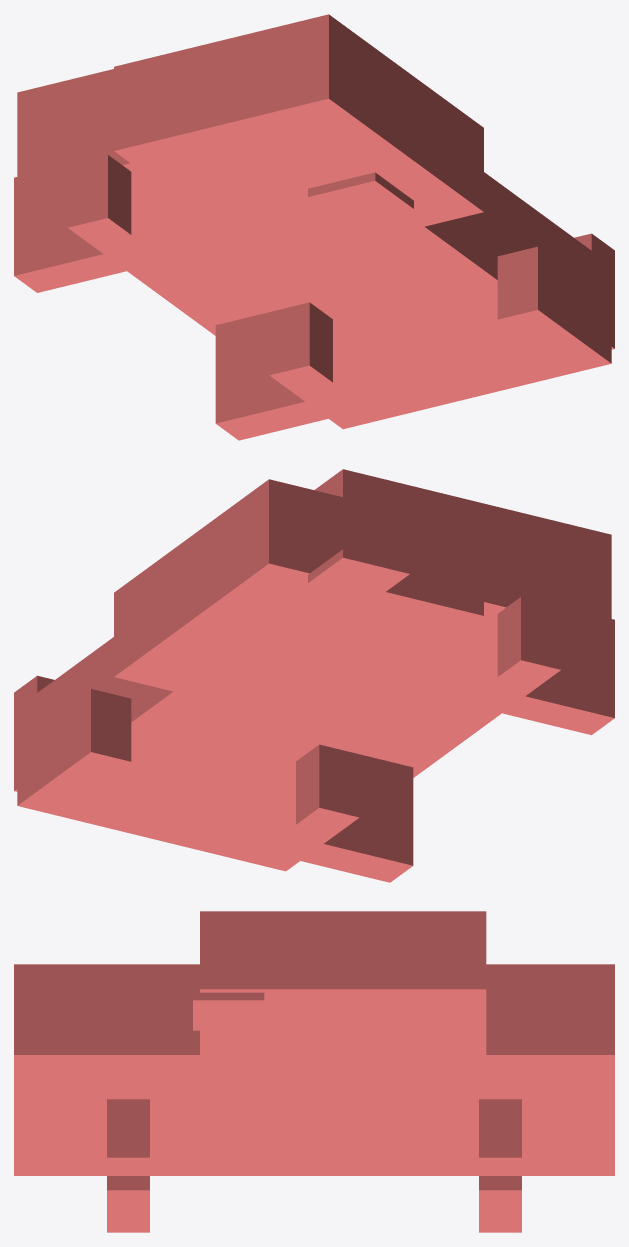
The model's file is car_placeholder.glb.
The picture shows the model from 3 angles, top to bottom: view 1: azimuth 30°, elevation 25°; view 2: azimuth 150°, elevation 25°; view 3: azimuth 270°, elevation 25°; orthographic projection. The views are drawn at different scales.
Visible parts, largest first — view 1: Body, Glass, Wheel_FL, Wheel_RL, Wheel_FR, SteeringWheel; view 2: Body, Glass, Wheel_RL, Wheel_FL, Wheel_RR, SteeringWheel; view 3: Body, Glass, Wheel_FR, Wheel_RR, SteeringWheel.
Part boxes in pixels (x1,y1,x2,y2): Body: (17, 69, 611, 429); Glass: (114, 14, 483, 264); Wheel_FL: (215, 302, 332, 440); Wheel_RL: (14, 155, 131, 292); Wheel_FR: (497, 233, 614, 349); SteeringWheel: (308, 172, 413, 225); Body: (17, 469, 611, 871); Glass: (114, 479, 483, 729); Wheel_RL: (296, 744, 413, 882); Wheel_FL: (497, 597, 614, 735); Wheel_RR: (14, 675, 131, 791); SteeringWheel: (308, 549, 409, 599); Body: (14, 964, 614, 1175); Glass: (200, 911, 486, 1085); Wheel_FR: (107, 1099, 149, 1232); Wheel_RR: (479, 1099, 521, 1232); SteeringWheel: (193, 992, 264, 1030).
Bounding box in the file's own units: 2.8 × 1.45 × 4.2.
